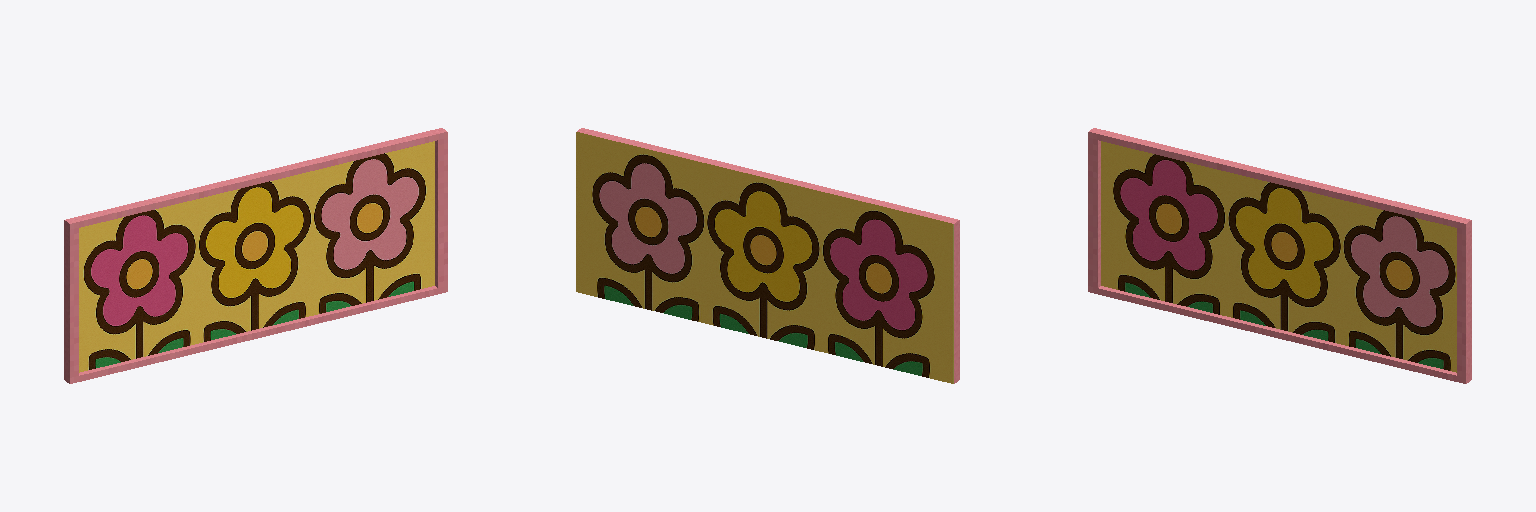
3 renders of one model, left to right at view 1: azimuth 30°, elevation 25°; view 2: azimuth 150°, elevation 25°; view 3: azimuth 330°, elevation 25°, orthographic.
Parts seen in each view (by area): view 1: painting_1.001_Cube.024; view 2: painting_1.001_Cube.024; view 3: painting_1.001_Cube.024.
Part boxes in pixels (x1,y1,x2,y2): painting_1.001_Cube.024: (64, 128, 447, 383); painting_1.001_Cube.024: (576, 128, 959, 383); painting_1.001_Cube.024: (1088, 128, 1471, 383).
Bounding box in the file's own units: 1.32 × 0.5366 × 0.0337.
1 materials, 1 textured.